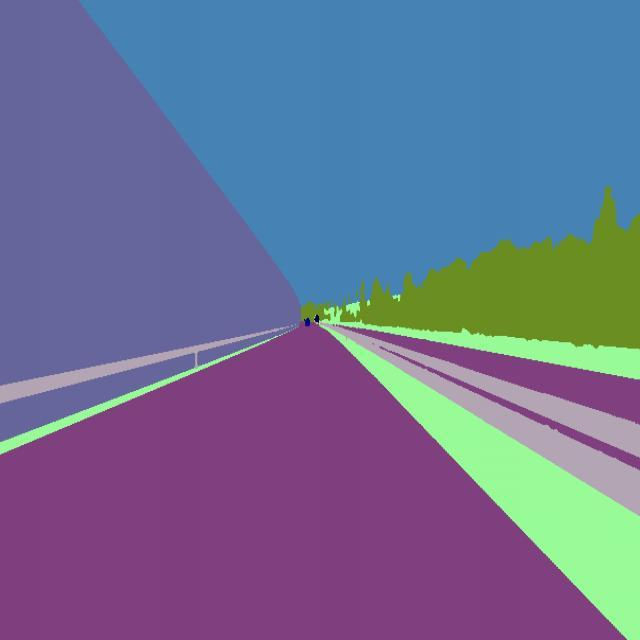safe: (301, 316, 313, 330)
